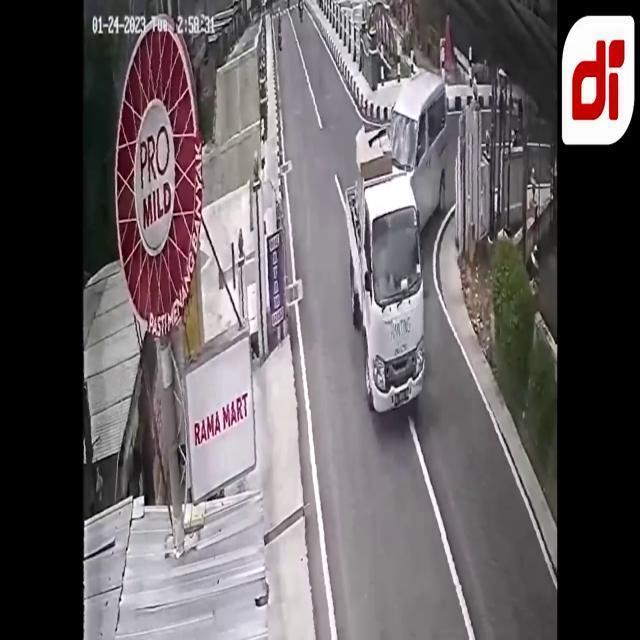accident: (348, 70, 450, 418)
